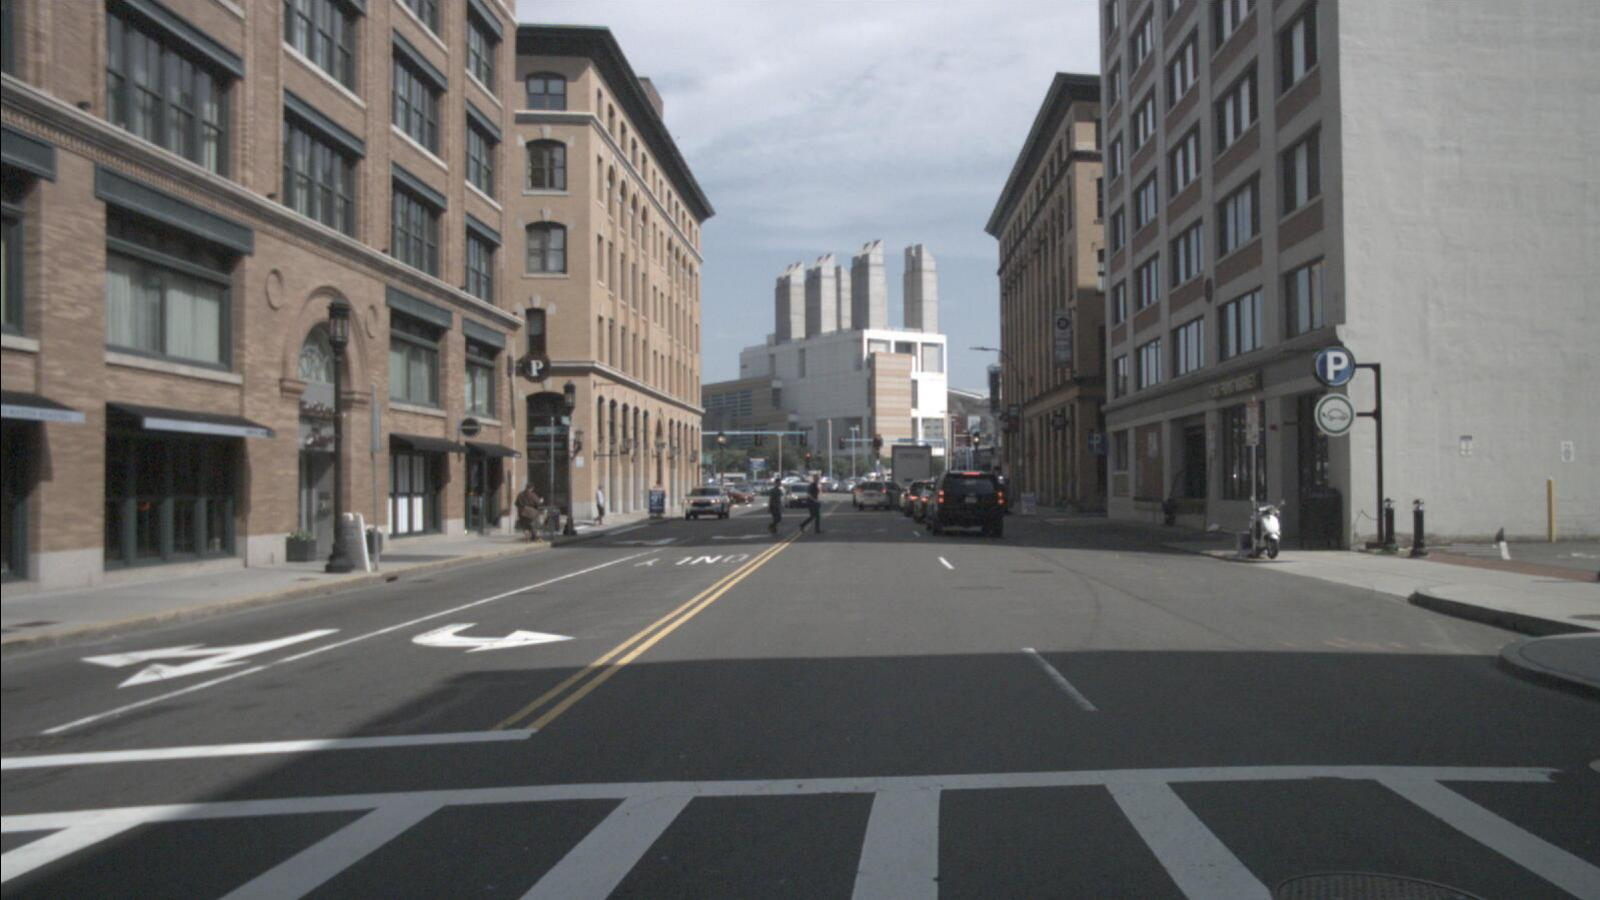human.pedestrian.adult-pedestrian.moving: (514, 482, 545, 544), (798, 474, 823, 535), (767, 478, 783, 534), (593, 485, 605, 527)
